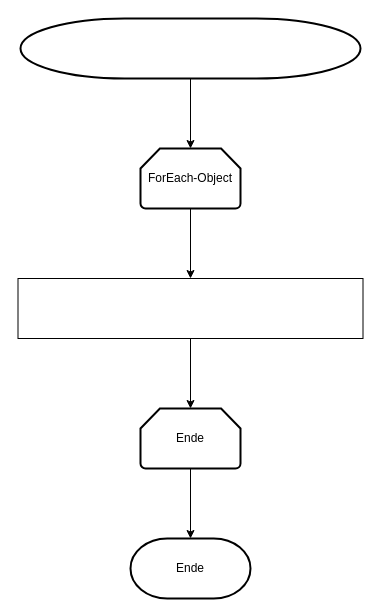
Some shapes in this 380 by 616 pixel diagram are drawn without their labels. The centre of each missing label's shape, as x and y in pixels:
$cpMessage + Get-Content "[file].c" | Set-Content "[file].c": (x=190, y=308)
Get-Childitem -Recurive -Contains *.c: (x=190, y=48)
